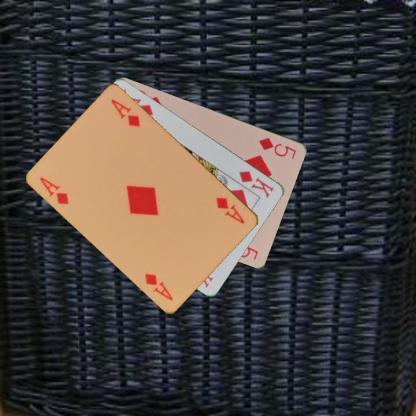5d: (256, 134, 298, 160)
Ad: (36, 174, 70, 206), (214, 194, 247, 225)
Kd: (237, 167, 275, 200)
